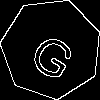G: (26, 24, 84, 84)
